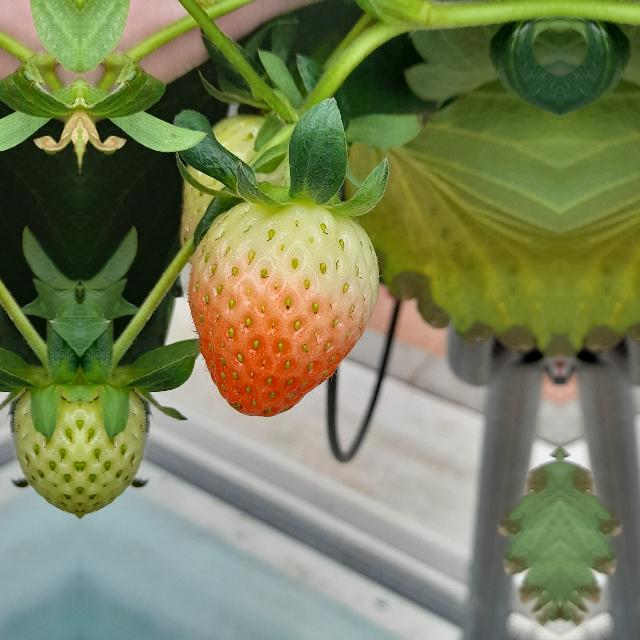Health_25: (80, 378, 152, 518), (8, 378, 80, 518)
Health_75: (188, 200, 380, 416)
